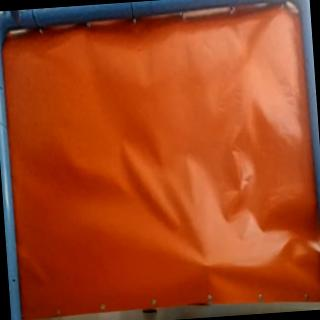Hit-hRxx: (196, 255, 216, 271)
